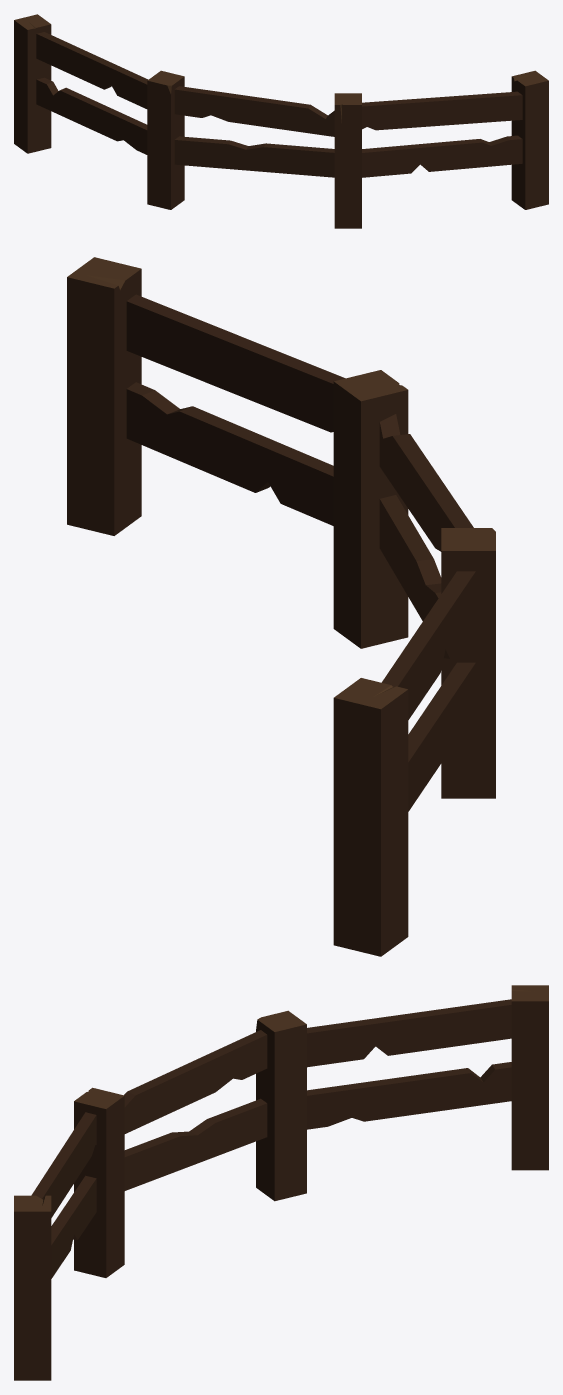
Rendered from Cave_Lair_Wooden_Timber_Fence_Corner_Medium_01.fbx.
3 renders of one model, top to bottom at view 1: azimuth 30°, elevation 25°; view 2: azimuth 150°, elevation 25°; view 3: azimuth 270°, elevation 25°, orthographic. The views are drawn at different scales.
Parts seen in each view (by area): view 1: Cave_Lair_Wooden_Timber_Fence_Corner_Medium_01; view 2: Cave_Lair_Wooden_Timber_Fence_Corner_Medium_01; view 3: Cave_Lair_Wooden_Timber_Fence_Corner_Medium_01.
Part boxes in pixels (x1,y1,x2,y2): Cave_Lair_Wooden_Timber_Fence_Corner_Medium_01: [14, 14, 548, 228]; Cave_Lair_Wooden_Timber_Fence_Corner_Medium_01: [67, 257, 495, 956]; Cave_Lair_Wooden_Timber_Fence_Corner_Medium_01: [14, 985, 548, 1380].
Bounding box in the file's own units: 3.22 × 1.12 × 3.22.
